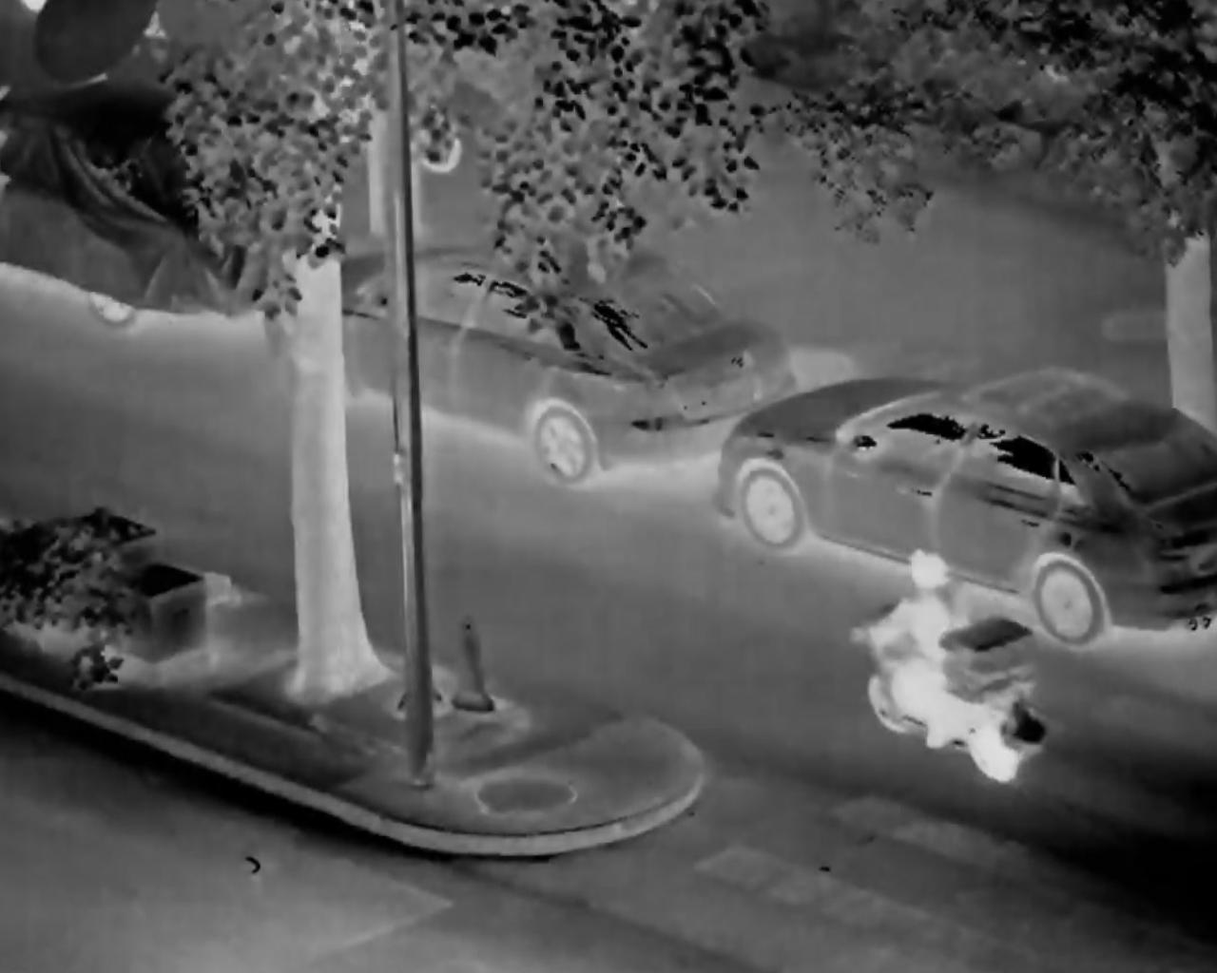person: (836, 529, 986, 745)
